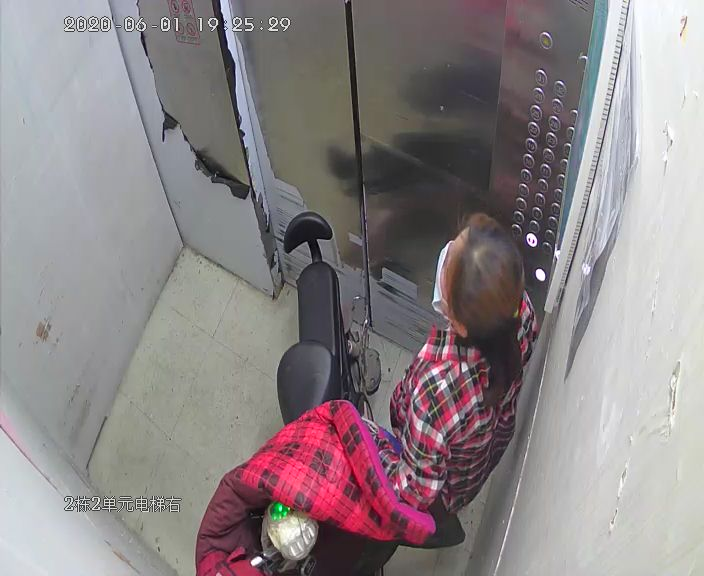Electric-bicycle: (248, 210, 385, 571)
